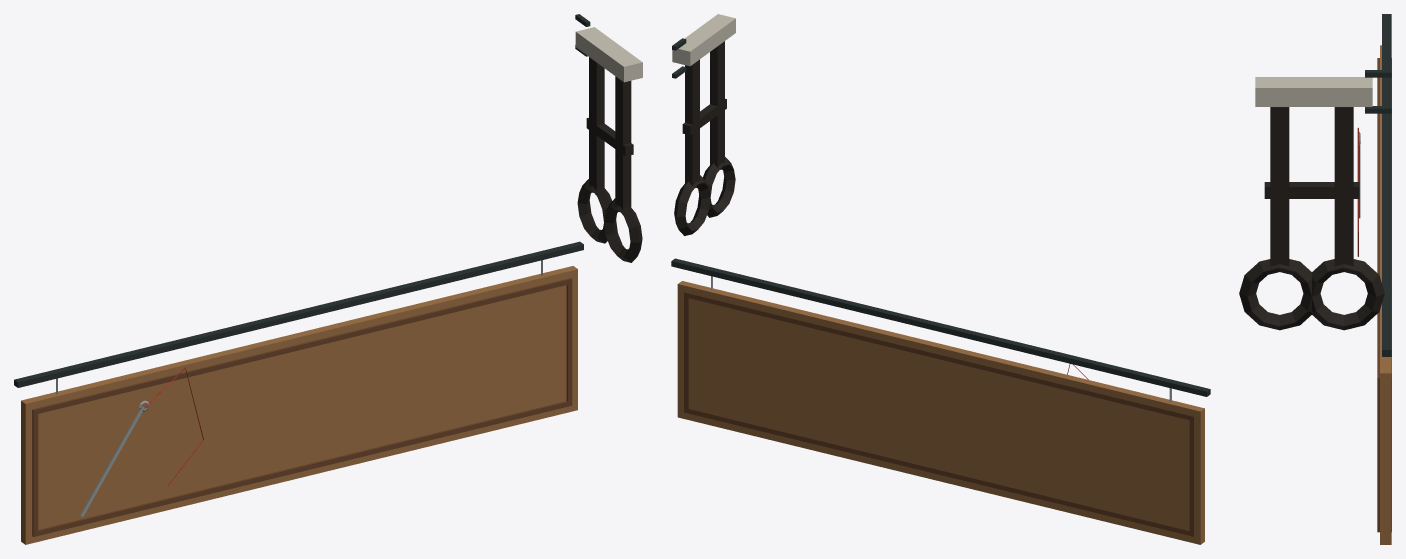
Rendered from bang_tiem_may_be_tu_48.glb.
3 renders of one model, left to right at view 1: azimuth 30°, elevation 25°; view 2: azimuth 150°, elevation 25°; view 3: azimuth 270°, elevation 25°, orthographic. The views are drawn at different scales.
Visible parts, largest first — view 1: bang_tiem_may_be_tu_48; view 2: bang_tiem_may_be_tu_48; view 3: bang_tiem_may_be_tu_48.
Part boxes in pixels (x1,y1,x2,y2): bang_tiem_may_be_tu_48: (14, 14, 642, 544); bang_tiem_may_be_tu_48: (671, 14, 1210, 544); bang_tiem_may_be_tu_48: (1239, 14, 1391, 544).
Bounding box in the file's own units: 4.25 × 2.78 × 0.807.
